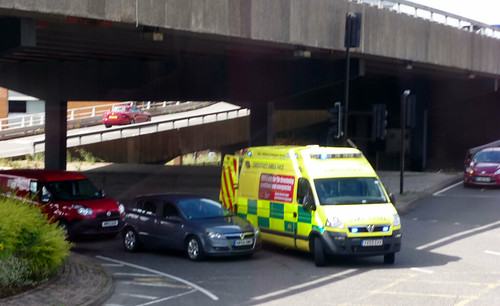ambulance: (225, 146, 403, 263)
bridge: (1, 1, 481, 129)
car: (121, 194, 260, 267), (461, 142, 499, 193)
street: (125, 224, 500, 306)
